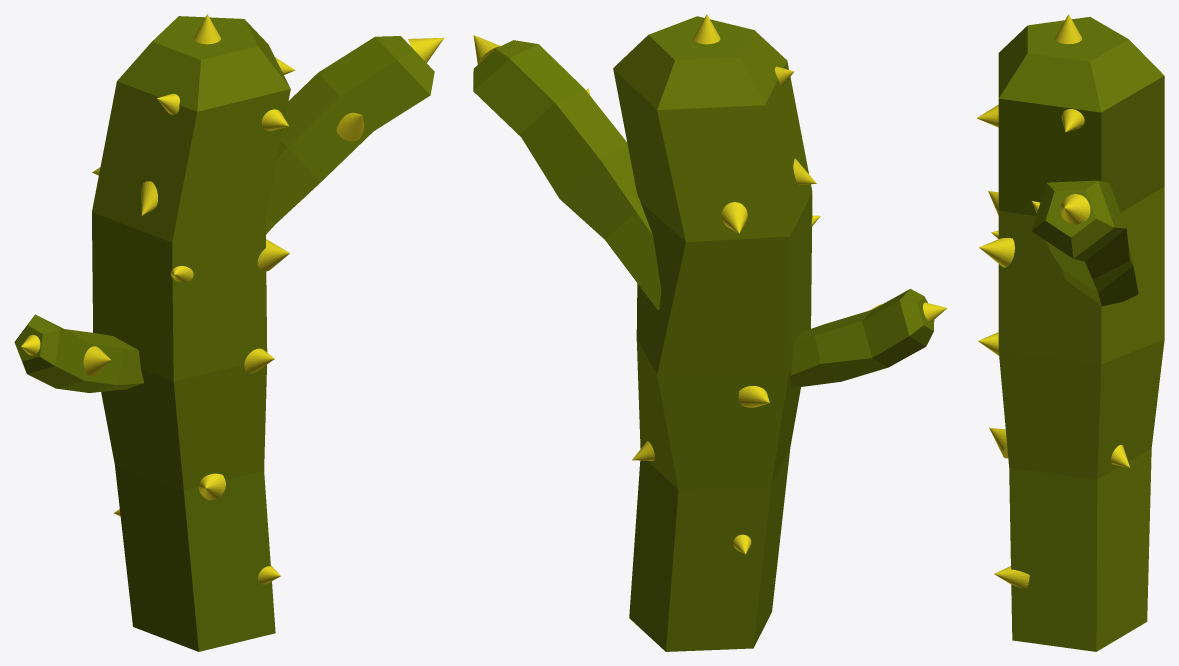
File: cacto.glb
The picture shows the model from 3 angles, left to right: view 1: azimuth 30°, elevation 25°; view 2: azimuth 150°, elevation 25°; view 3: azimuth 270°, elevation 25°; orthographic projection.
Visible parts, largest first — view 1: CACTO; view 2: CACTO; view 3: CACTO.
Boxes of the visible parts, x1,y1,x2,y2 form: CACTO: (14,14,444,651); CACTO: (473,14,947,651); CACTO: (976,14,1164,651).
Size of the model in its own units: 5.63 by 7.3 by 2.05.
